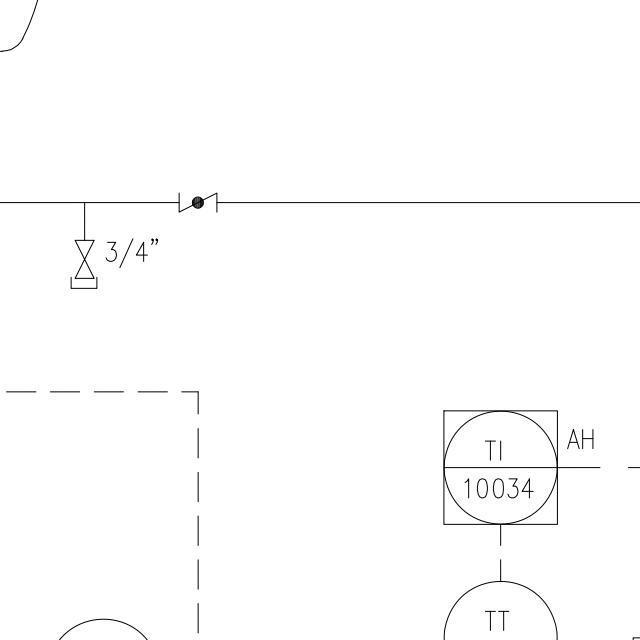EC: (68, 212, 101, 292)
GV: (72, 235, 96, 282)
